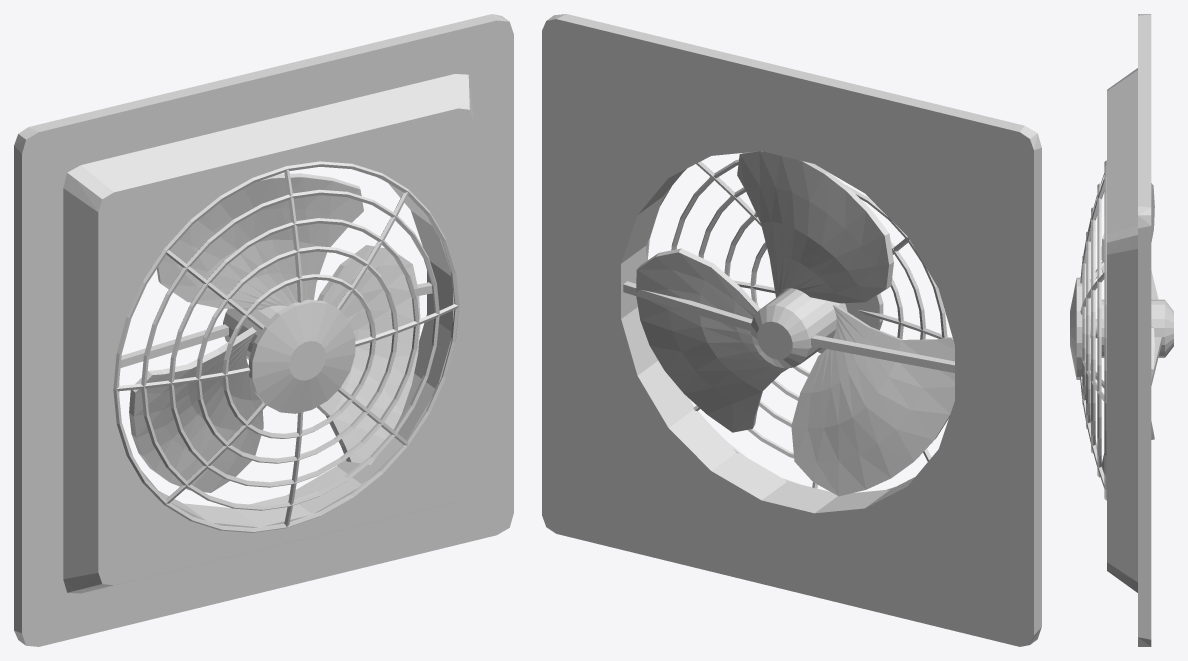
File: 6aea77ae-e0e2-4028-8bff-f49d1c6a572e.glb
3 renders of one model, left to right at view 1: azimuth 30°, elevation 25°; view 2: azimuth 150°, elevation 25°; view 3: azimuth 270°, elevation 25°, orthographic. The views are drawn at different scales.
Parts seen in each view (by area): view 1: Window_Fan; view 2: Window_Fan; view 3: Window_Fan.
Part boxes in pixels (<box>): Window_Fan: <box>14,14,513,646</box>; Window_Fan: <box>542,14,1041,646</box>; Window_Fan: <box>1070,14,1173,646</box>.
Size of the model in its own units: 60 by 60 by 12.84.
1 material, 1 textured.
